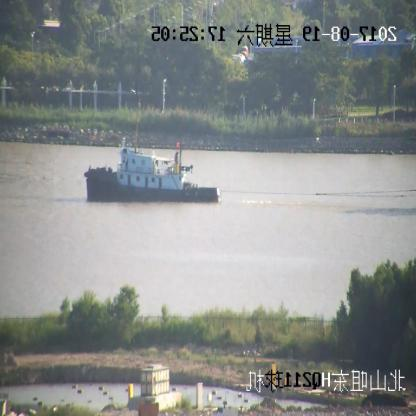Fishing Boat: (84, 136, 220, 202)
